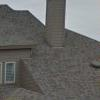Chimney: (39, 0, 73, 50)
